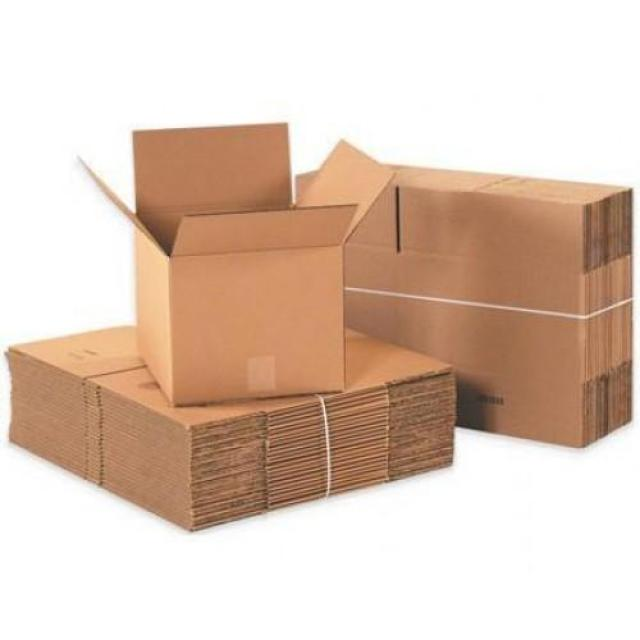cardboard: (9, 124, 632, 532)
